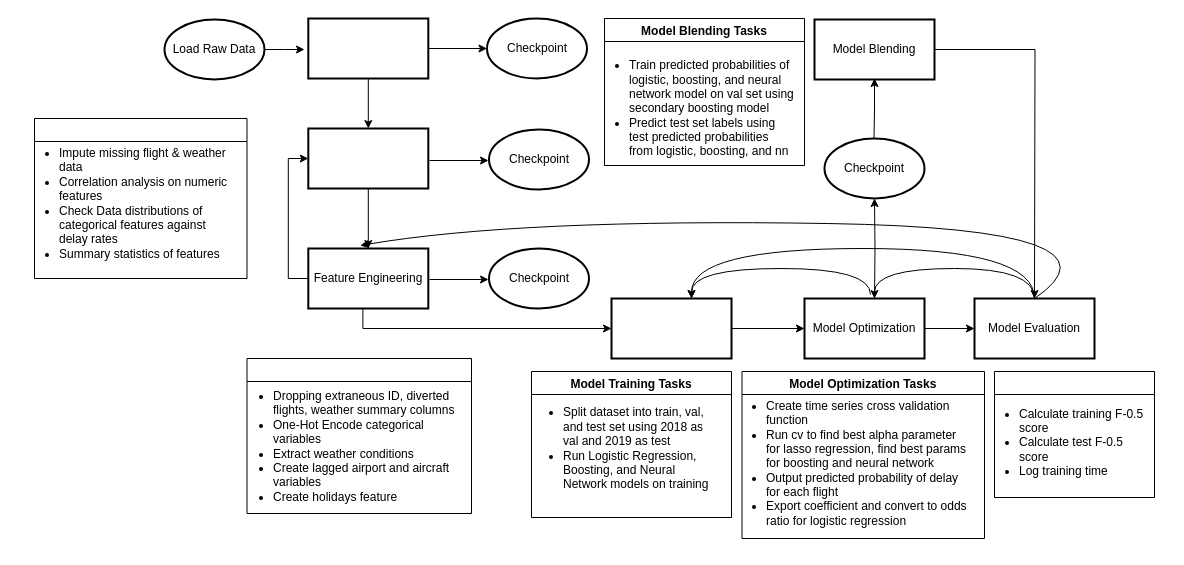
The diagram is 1184 pixels wide and 565 high, and some of its shapes have lost their labels. Here are the shapes that lost their labels. From the top down, the box of each, then its label:
(307, 17, 429, 79): Join Dataset
(307, 127, 429, 189): Data Cleaning & EDA
(34, 118, 247, 278): Data Cleaning & EDA Tasks
(610, 297, 732, 359): Model Training
(246, 358, 472, 514): Feature Engineering Tasks
(994, 370, 1154, 498): Model Evaluation Tasks
